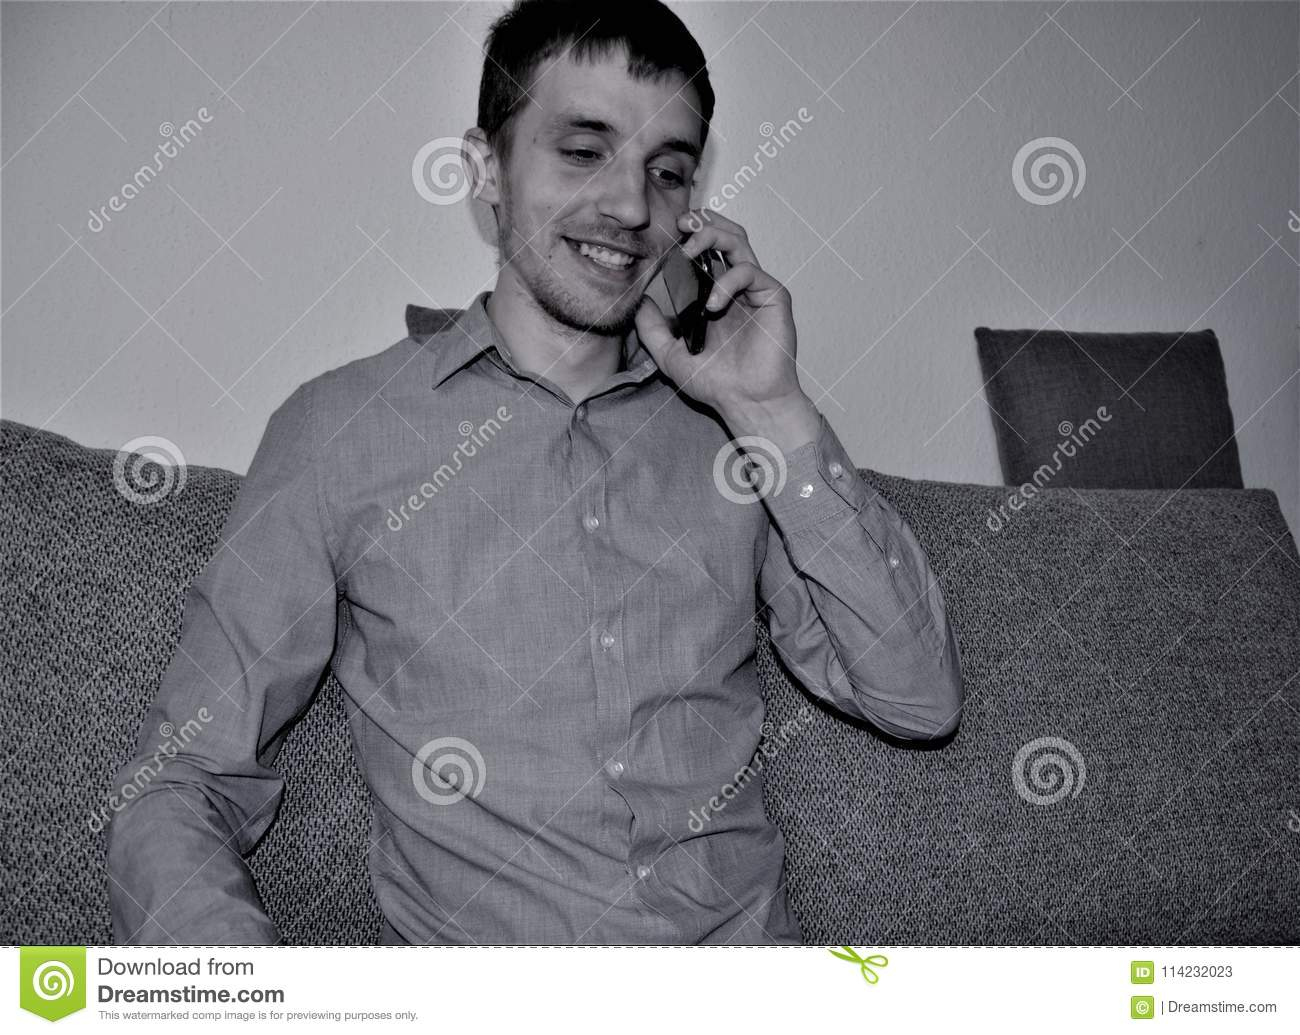phone: (656, 219, 716, 362)
talk: (532, 105, 800, 435)
